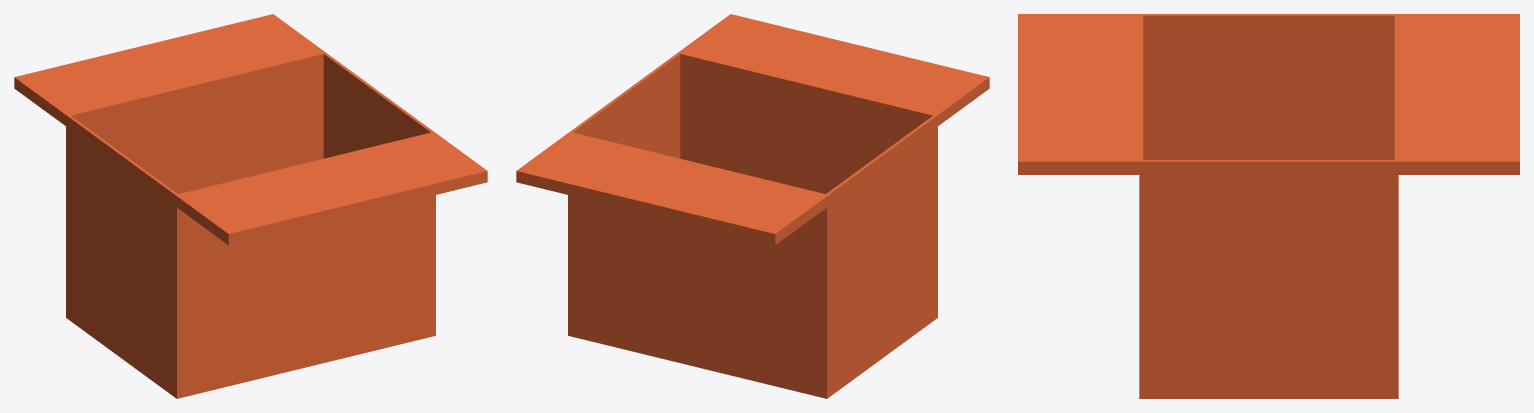
Rendered from Green_Open_Box.fbx.
3 renders of one model, left to right at view 1: azimuth 30°, elevation 25°; view 2: azimuth 150°, elevation 25°; view 3: azimuth 270°, elevation 25°, orthographic. The views are drawn at different scales.
Parts seen in each view (by area): view 1: Green_Open_Box; view 2: Green_Open_Box; view 3: Green_Open_Box.
Part boxes in pixels (x1,y1,x2,y2): Green_Open_Box: [14, 14, 487, 398]; Green_Open_Box: [516, 14, 989, 398]; Green_Open_Box: [1018, 14, 1519, 398].
Bounding box in the file's own units: 44.45 × 33.26 × 63.76.
